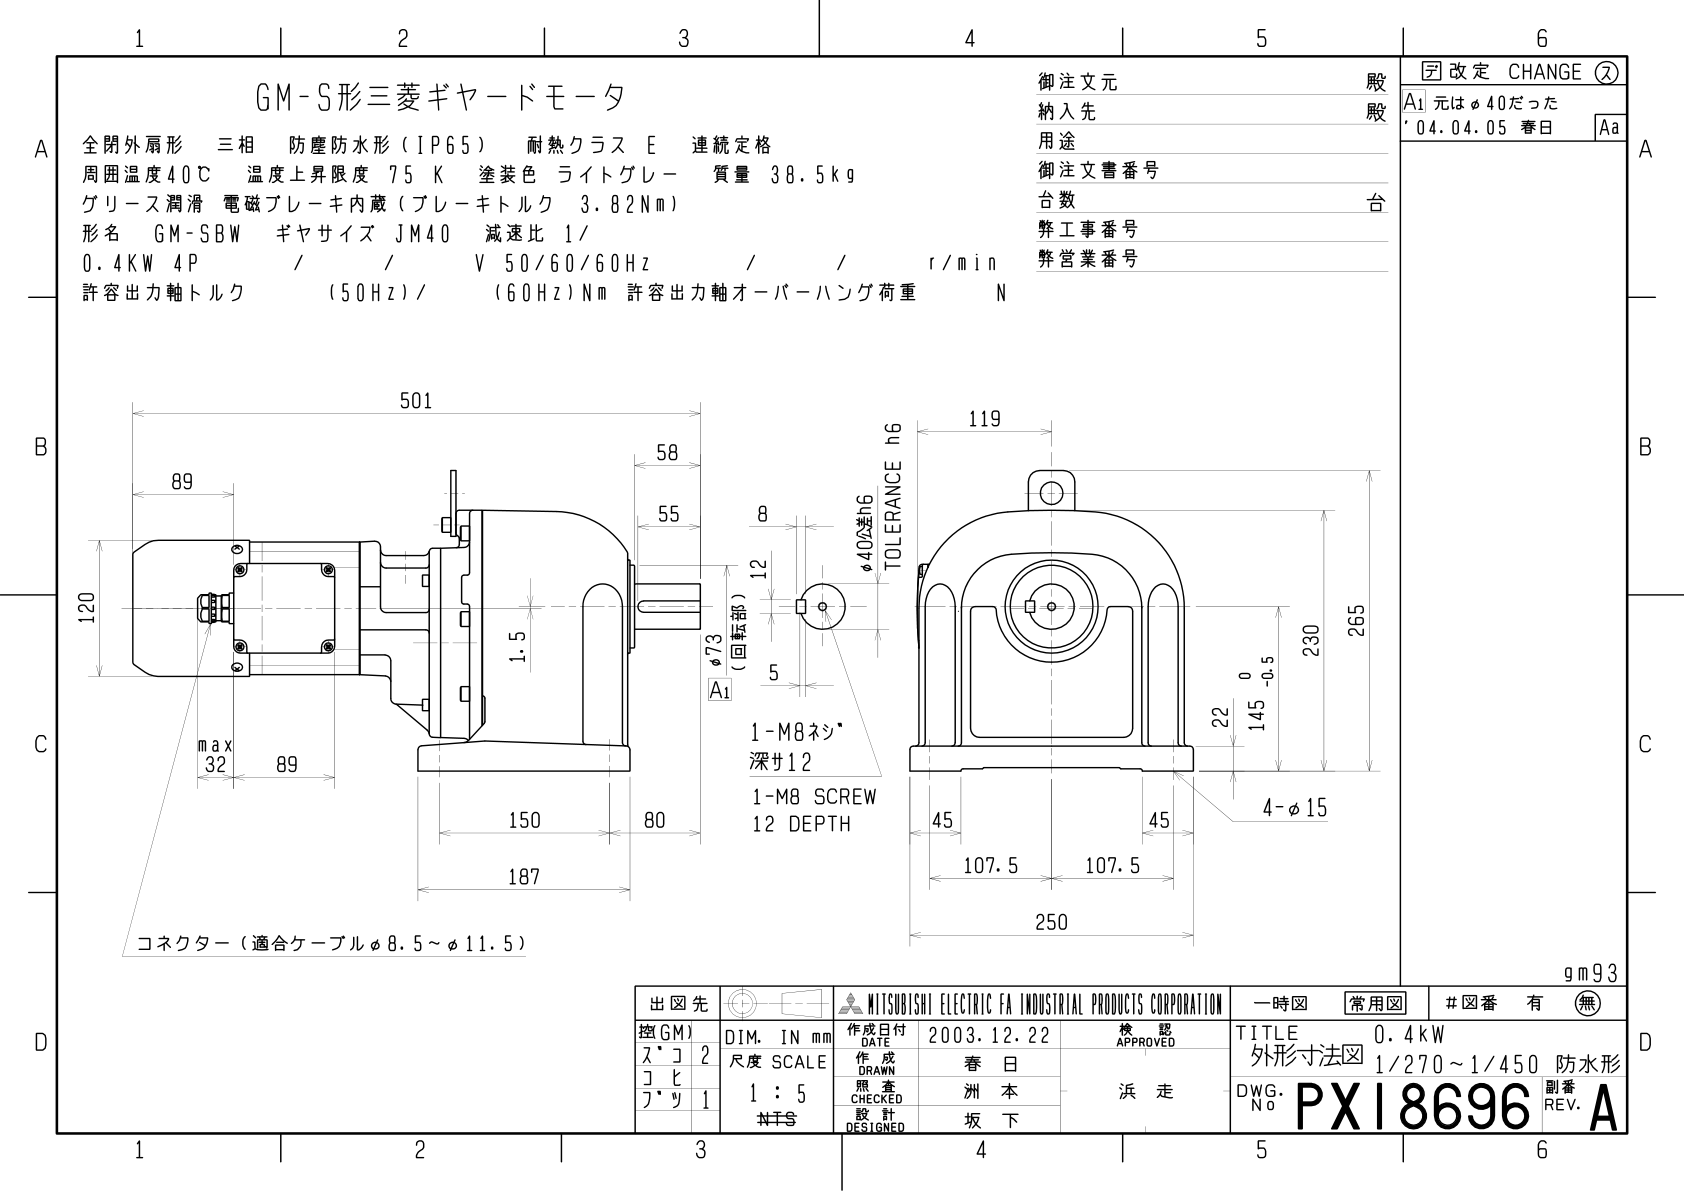GM_S_IP65＿三相_脚: (63, 363, 1386, 962)
